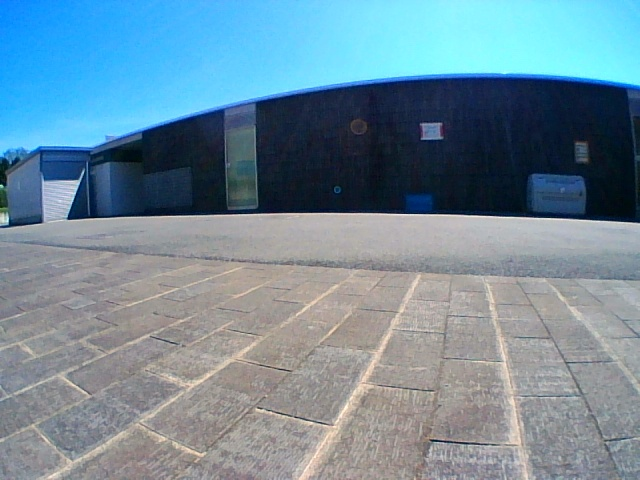blue_box: (407, 196, 430, 213)
